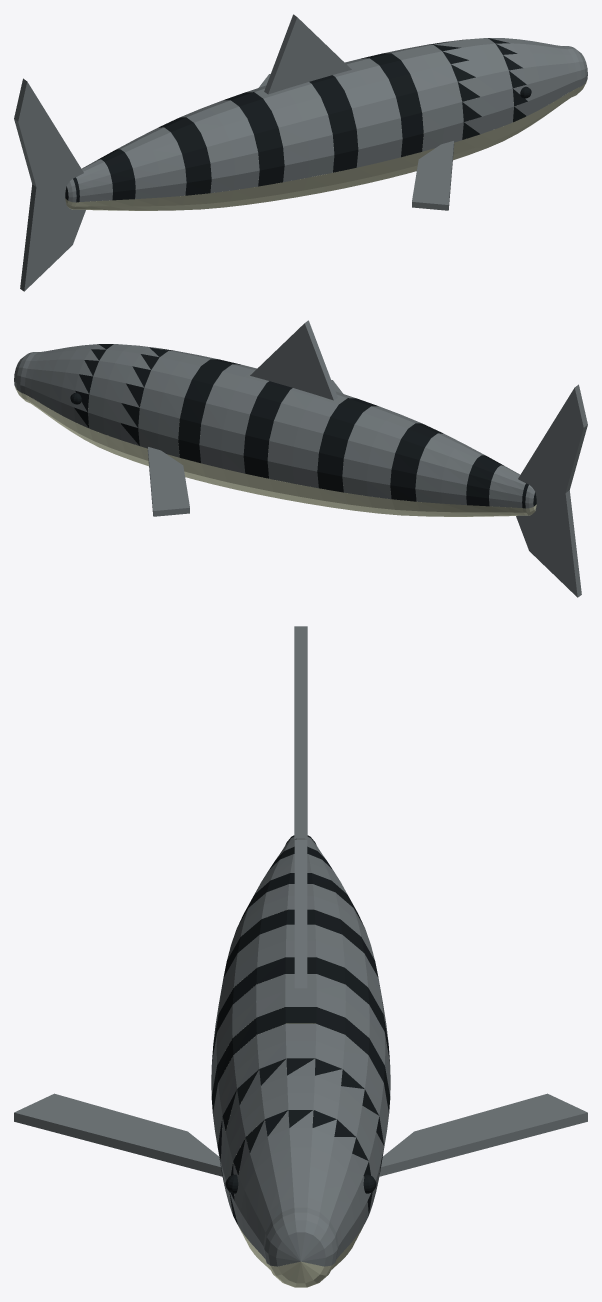
The model's file is tiger-shark.dae.
3 views of the same model, one above another, from view 1: azimuth 30°, elevation 25°; view 2: azimuth 150°, elevation 25°; view 3: azimuth 270°, elevation 25° (orthographic). The views are drawn at different scales.
Parts seen in each view (by area): view 1: part1-node, part2-node, part0-node; view 2: part1-node, part2-node, part0-node; view 3: part1-node, part2-node, part0-node.
Part boxes in pixels (x1,y1,x2,y2): part1-node: [14, 14, 587, 291]; part2-node: [65, 38, 531, 202]; part0-node: [65, 80, 586, 210]; part1-node: [14, 320, 587, 597]; part2-node: [70, 344, 536, 508]; part0-node: [15, 386, 536, 516]; part1-node: [14, 626, 587, 1266]; part2-node: [211, 835, 390, 1224]; part0-node: [236, 1023, 365, 1287].
Bounding box in the file's own units: 3.8 × 2.08 × 1.34.
